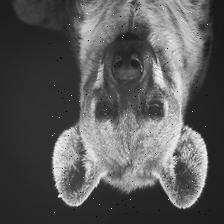hyena: (49, 0, 216, 217)
